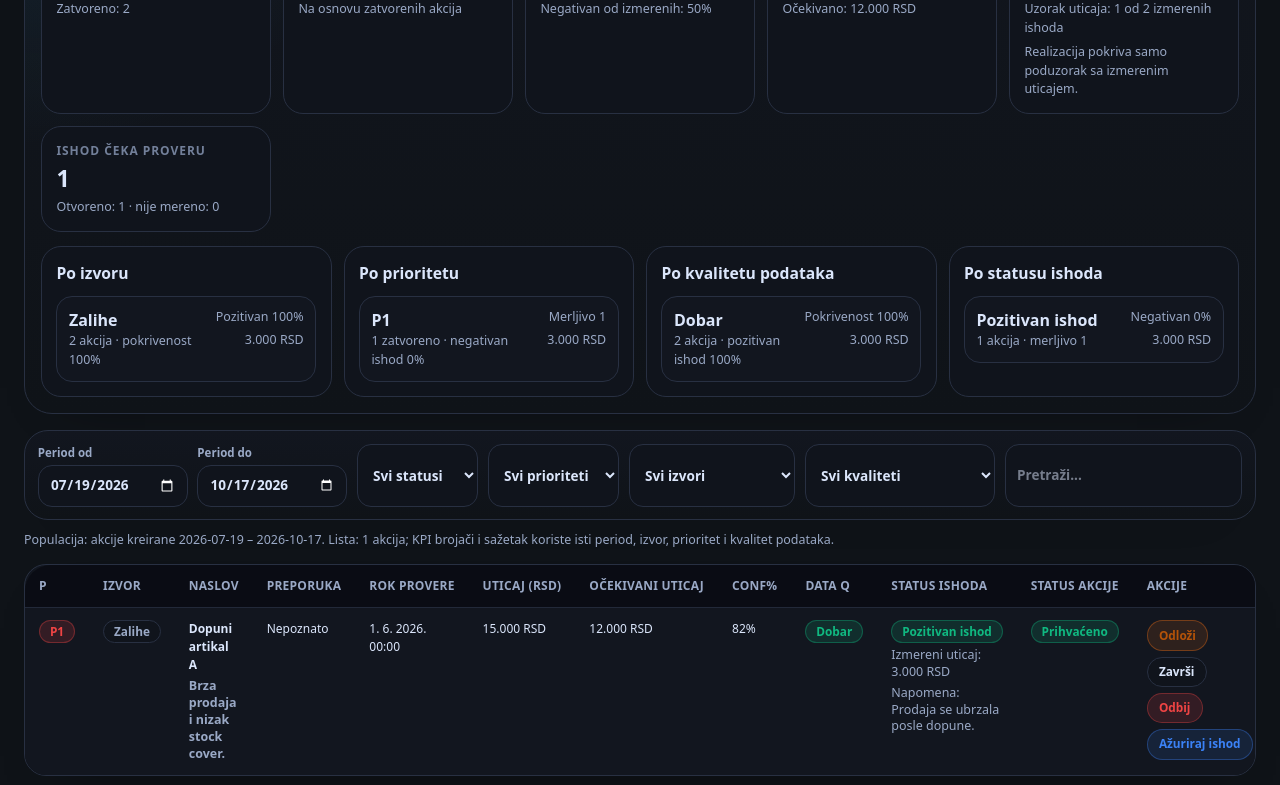
Test: AnalyticsActionsPage › keeps the newest KPI counts when count requests overlap (RQ652)
The width and height of the screenshot is (1280, 785).
(page scrolled)
Expected: the text "Dopuni artikal A" is shown, [189, 620, 232, 673]
Select "Dobavljači" in the dropdown named "Filter po izvoru" at (712, 475), box [629, 444, 795, 507]
(page scrolled)
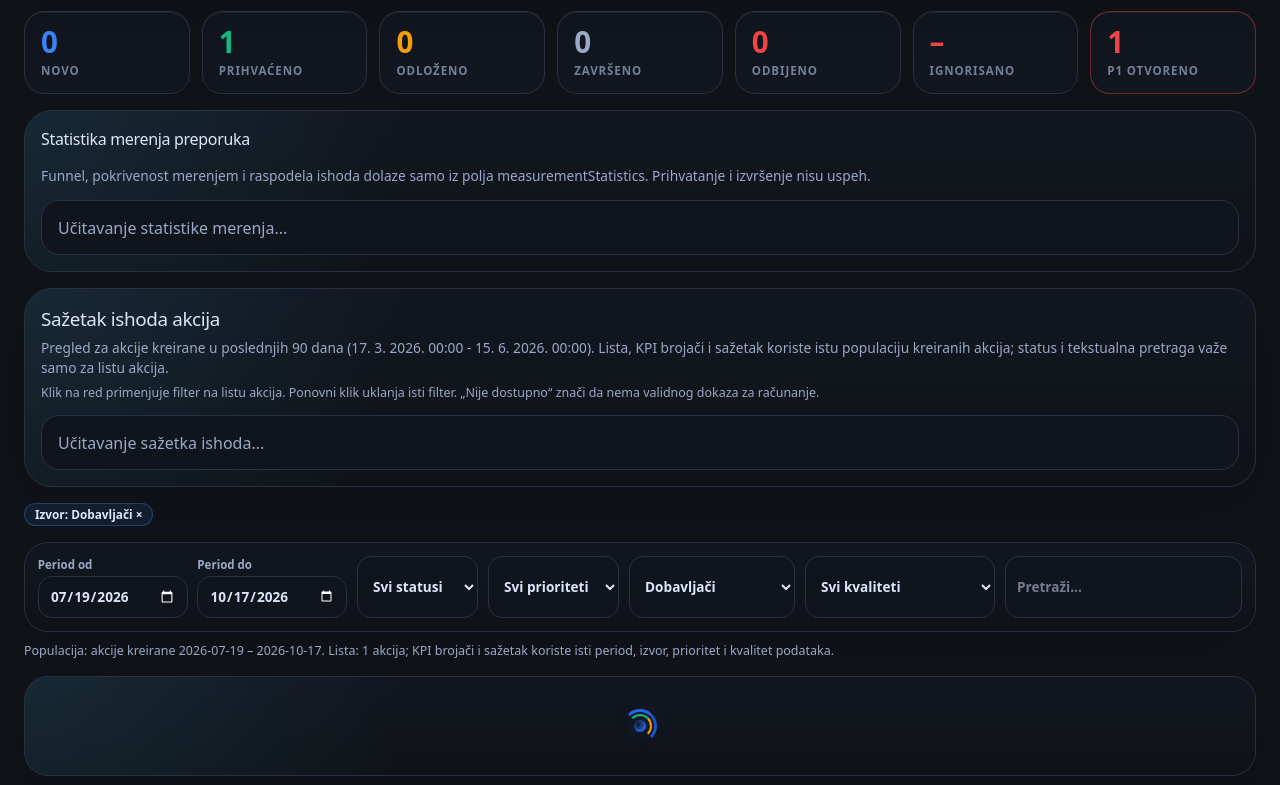
Select "P2" in the dropdown named "Filter po prioritetu" at (554, 587), box [488, 556, 619, 618]
(page scrolled)
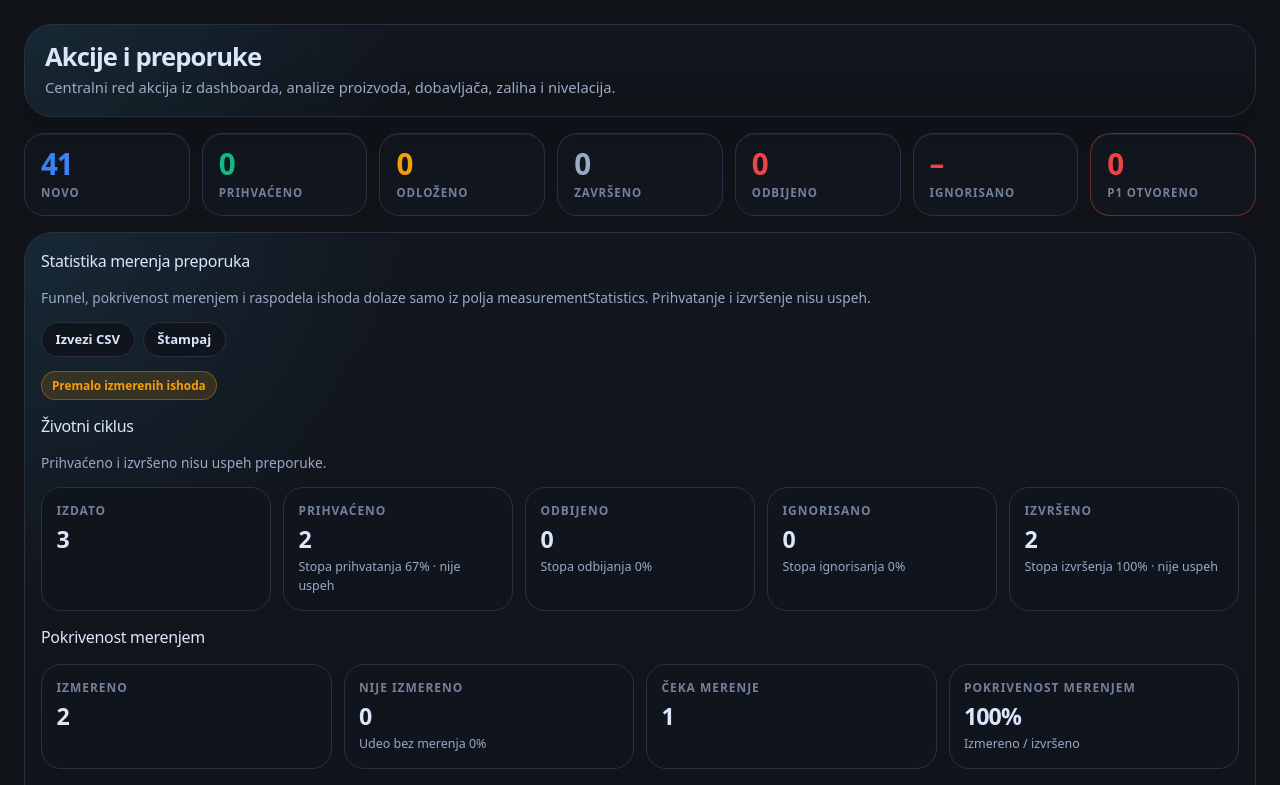
Now the text with class "kpi-value" reads "41", box [41, 143, 72, 184]
